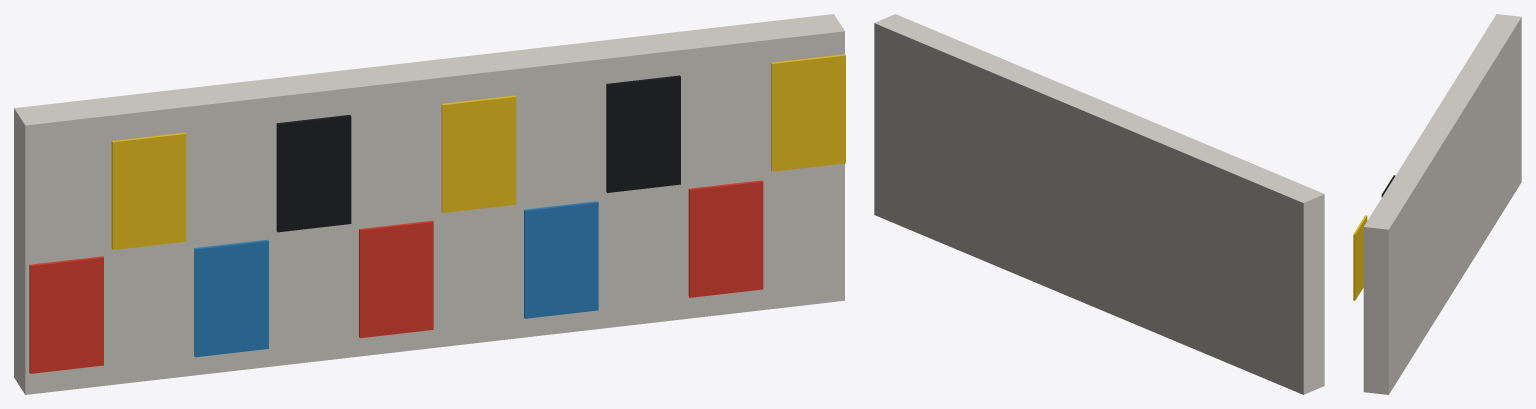
File: sn_geometric.glb
The picture shows the model from 3 angles, left to right: view 1: azimuth 30°, elevation 25°; view 2: azimuth 150°, elevation 25°; view 3: azimuth 270°, elevation 25°; orthographic projection. The views are drawn at different scales.
Parts seen in each view (by area): view 1: sn_geometric_lod0; view 2: sn_geometric_lod0; view 3: sn_geometric_lod0.
Boxes of the visible parts, x1=… form: sn_geometric_lod0: x1=14, y1=14, x2=845, y2=394; sn_geometric_lod0: x1=874, y1=14, x2=1324, y2=394; sn_geometric_lod0: x1=1353, y1=14, x2=1521, y2=394.
Size of what is drawn, in the model's own units: 9.8 by 3.5 by 3.24.
